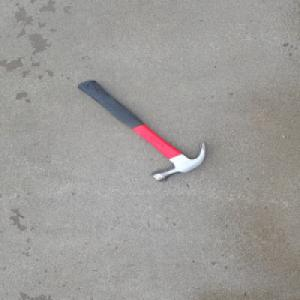Hammer: (73, 78, 205, 182)
